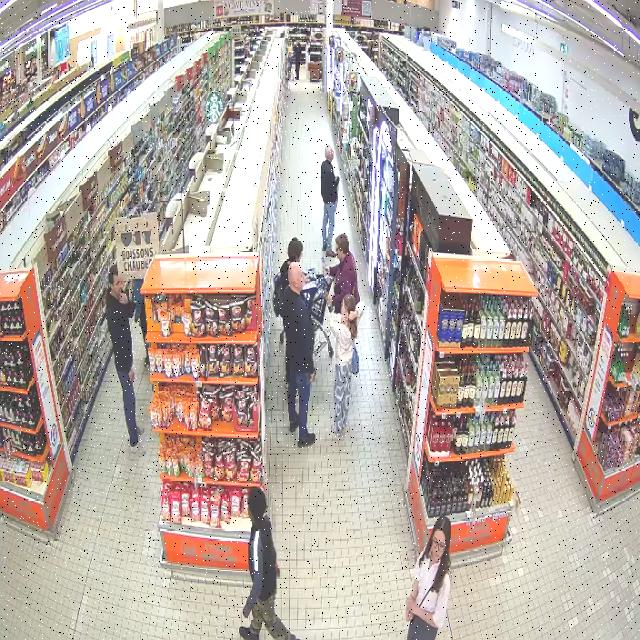bags: (352, 348, 358, 374)
hands: (406, 594, 418, 613), (242, 605, 252, 618), (405, 610, 414, 622), (348, 310, 358, 320), (309, 371, 316, 382), (322, 267, 330, 276), (340, 313, 347, 323), (275, 564, 280, 577), (129, 369, 134, 380)
person: (239, 488, 296, 639), (105, 264, 143, 454), (282, 262, 315, 447), (406, 516, 451, 639), (329, 294, 363, 436), (321, 233, 359, 312), (321, 144, 339, 257)
